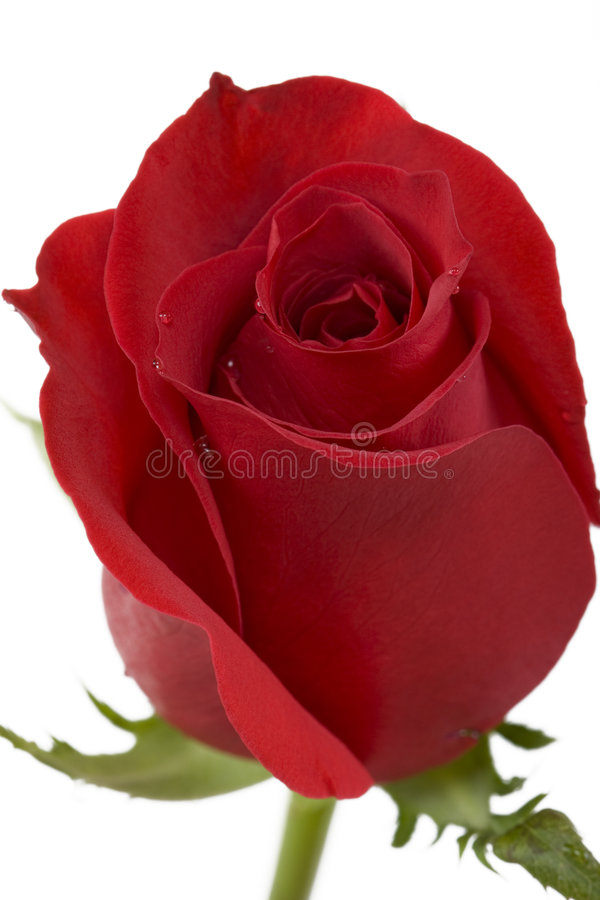RedRose: (34, 22, 600, 826)
